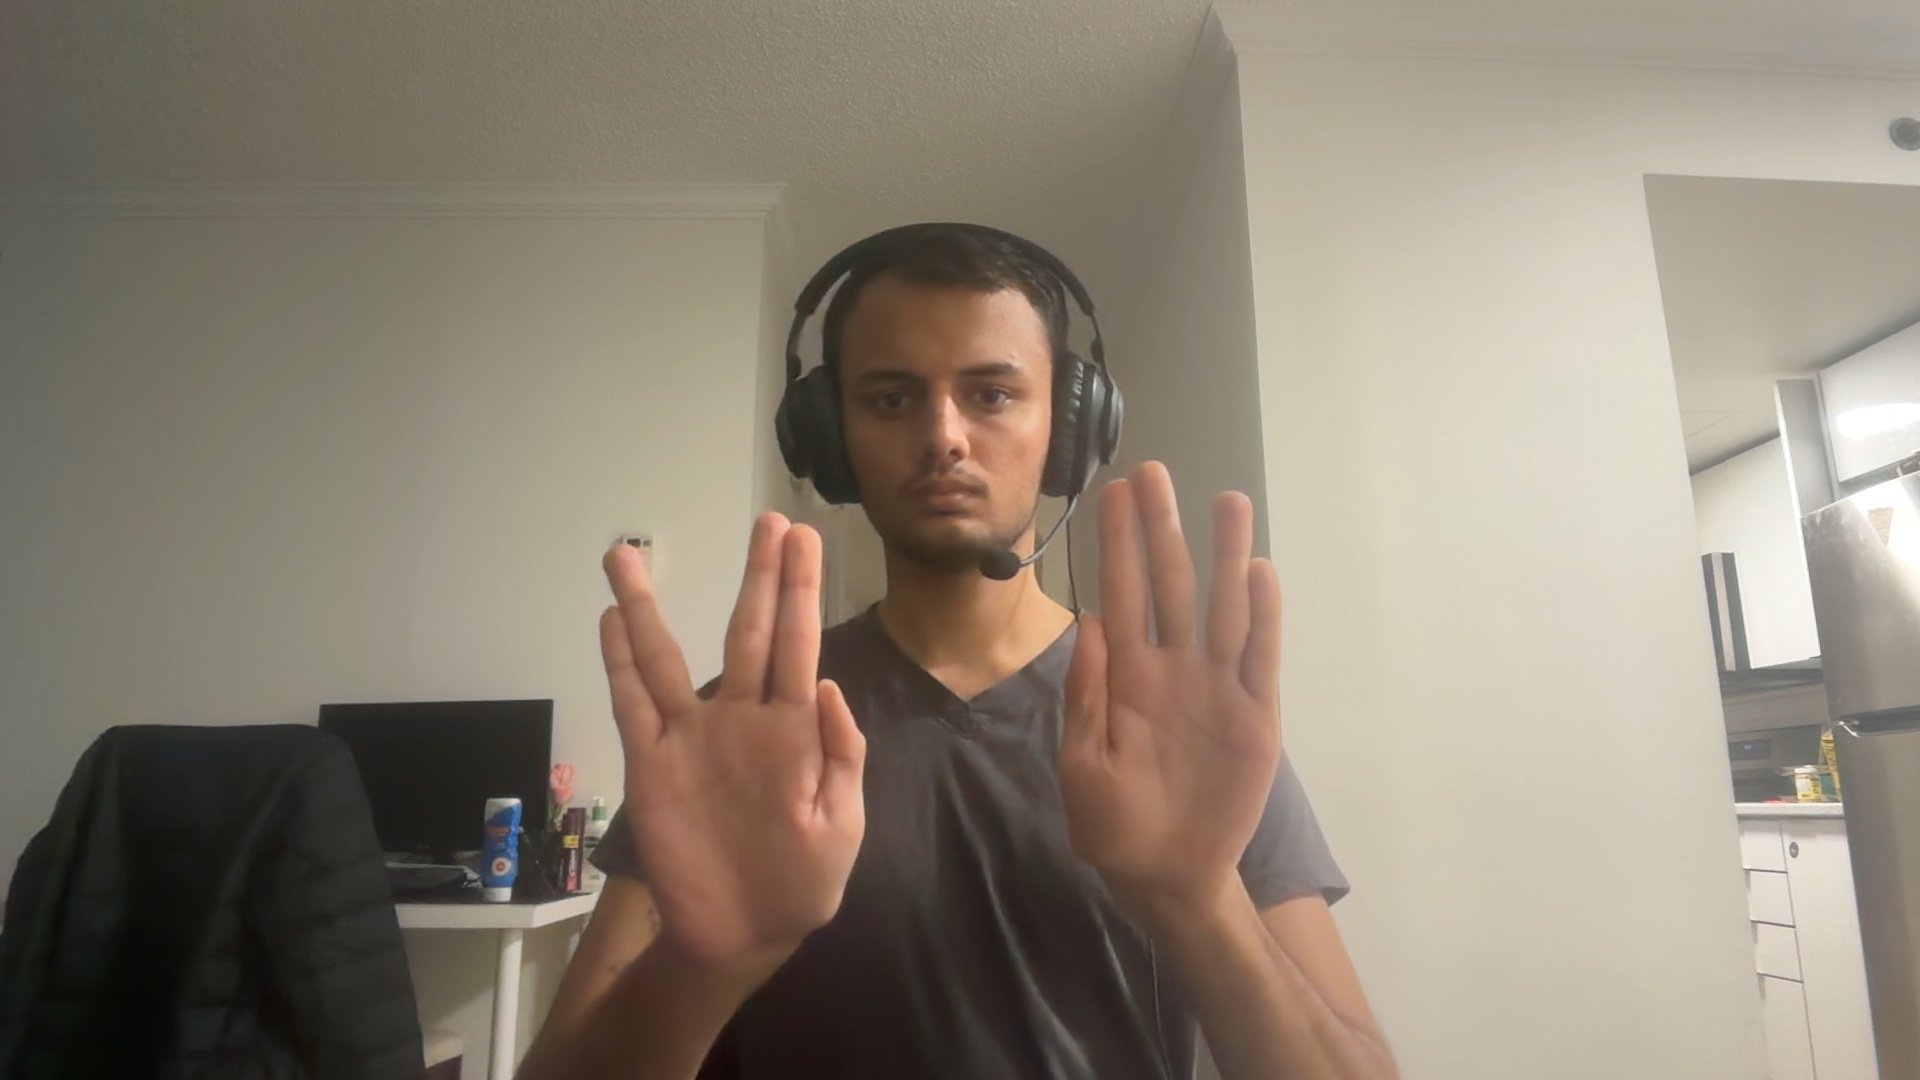livelong: (597, 508, 869, 965)
